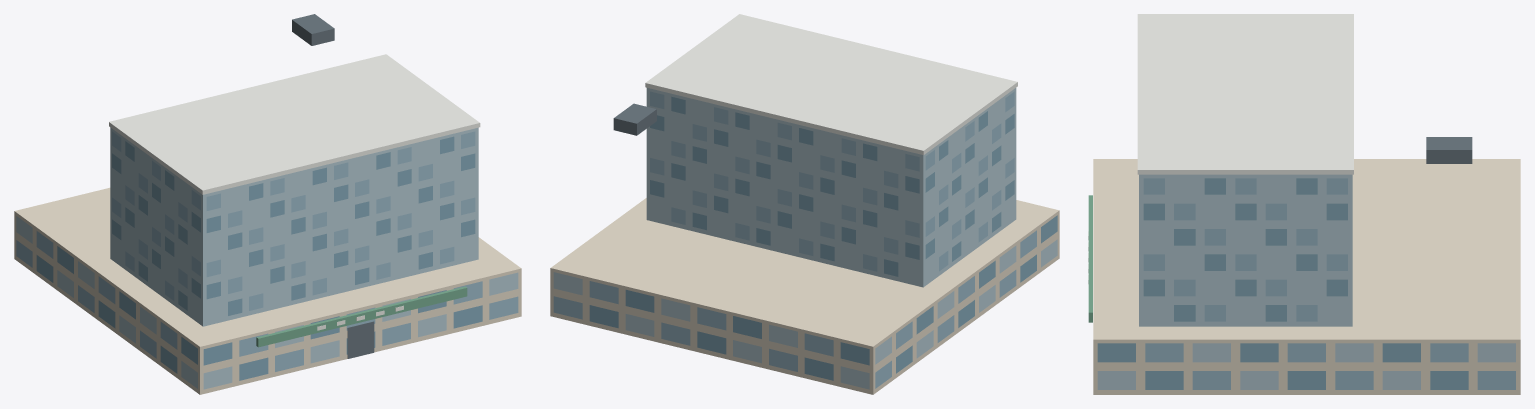
File: sky-building-5.glb
3 renders of one model, left to right at view 1: azimuth 30°, elevation 25°; view 2: azimuth 150°, elevation 25°; view 3: azimuth 270°, elevation 25°, orthographic. The views are drawn at different scales.
Size of the model in its own units: 14.02 by 8 by 14.18.
